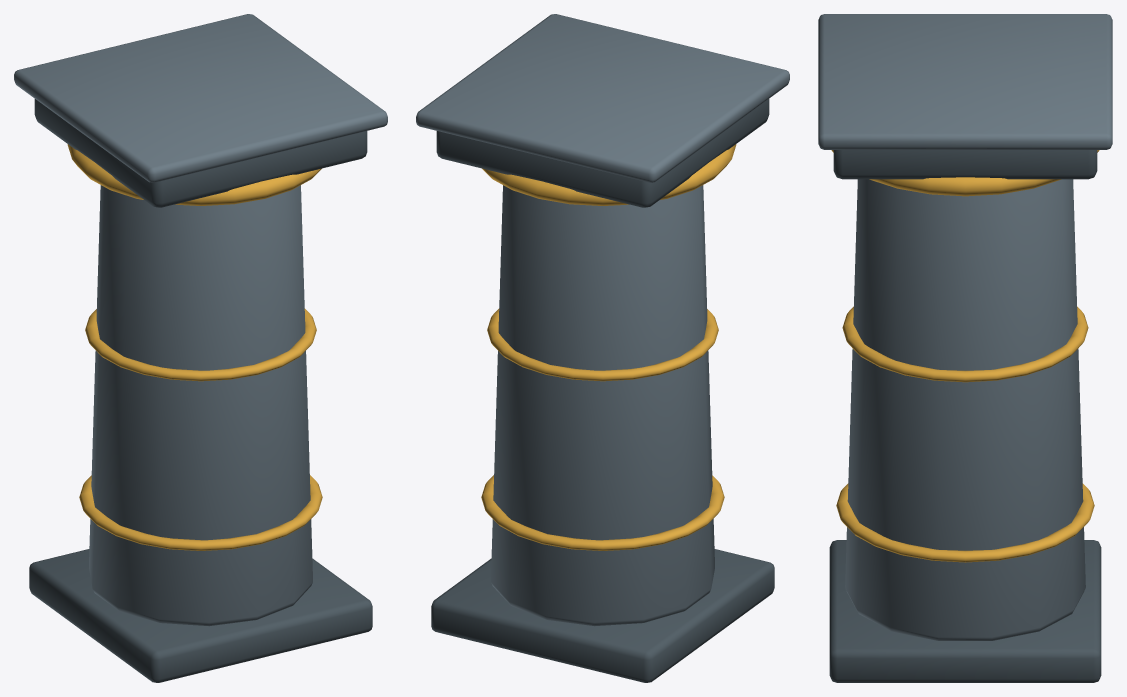
The model's file is pillar.glb.
3 renders of one model, left to right at view 1: azimuth 30°, elevation 25°; view 2: azimuth 150°, elevation 25°; view 3: azimuth 270°, elevation 25°, orthographic. The views are drawn at different scales.
Visible parts, largest first — view 1: Fuste, Topo, Base, Capitel, Faixa0, Faixa1, AnelOuro; view 2: Fuste, Topo, Base, Capitel, Faixa0, Faixa1, AnelOuro; view 3: Fuste, Topo, Base, Capitel, Faixa0, Faixa1, AnelOuro.
Part boxes in pixels (left/top/right/bottom): Fuste: left=89, top=185, right=312, bottom=626; Topo: left=14, top=14, right=387, bottom=182; Base: left=29, top=549, right=372, bottom=682; Capitel: left=34, top=99, right=367, bottom=207; Faixa0: left=79, top=475, right=322, bottom=550; Faixa1: left=85, top=308, right=316, bottom=381; AnelOuro: left=67, top=144, right=321, bottom=205; Fuste: left=491, top=185, right=714, bottom=626; Topo: left=416, top=14, right=789, bottom=182; Base: left=431, top=549, right=774, bottom=682; Capitel: left=436, top=99, right=769, bottom=207; Faixa0: left=481, top=475, right=724, bottom=550; Faixa1: left=487, top=308, right=718, bottom=381; AnelOuro: left=482, top=144, right=736, bottom=205; Fuste: left=845, top=179, right=1085, bottom=640; Topo: left=818, top=14, right=1112, bottom=149; Base: left=829, top=540, right=1101, bottom=682; Capitel: left=833, top=150, right=1097, bottom=179; Faixa0: left=836, top=483, right=1094, bottom=562; Faixa1: left=842, top=306, right=1088, bottom=382; AnelOuro: left=831, top=150, right=1099, bottom=196.
Size of the model in its own units: 1.95 by 4.06 by 1.95.
